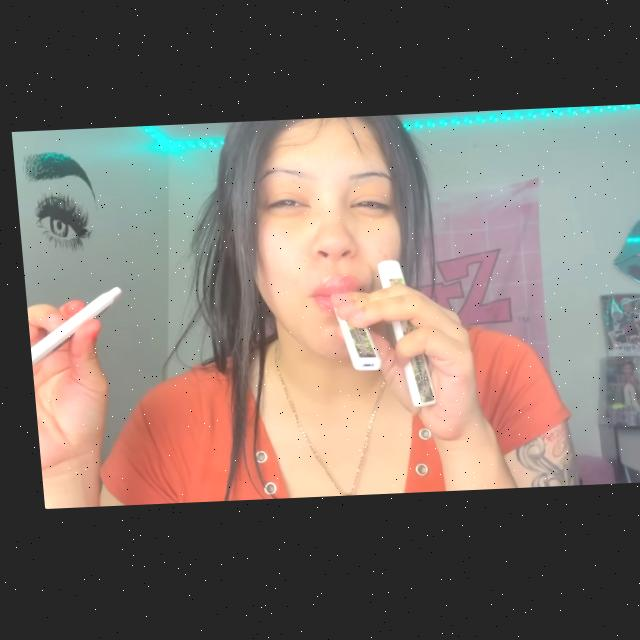vape: (371, 261, 430, 411), (21, 286, 123, 364), (324, 294, 376, 375)
